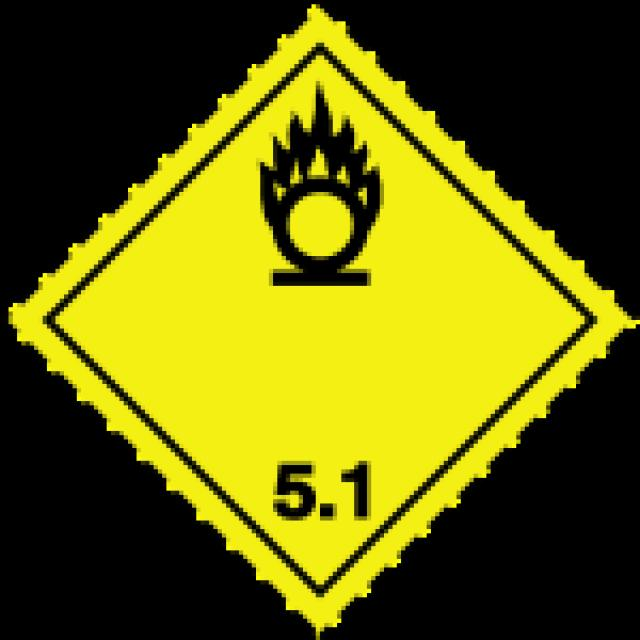Division 5-1: (4, 4, 640, 640)
